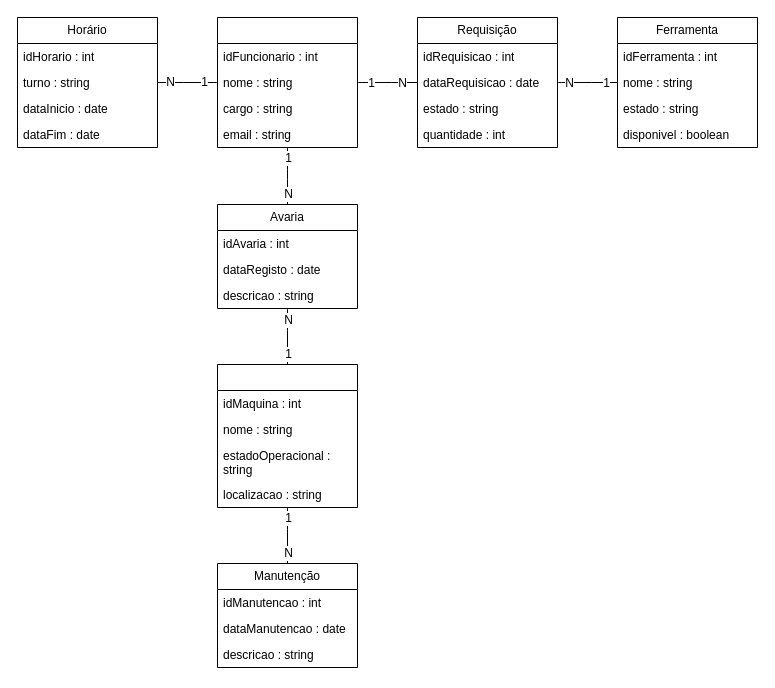
Image size: 775x688. Some labels were removed from this diagram. Here are the shapes that lost their labels. From the top down, the box of each, then its label:
(216, 16, 358, 148): Funcionário
(216, 364, 358, 508): Máquina
